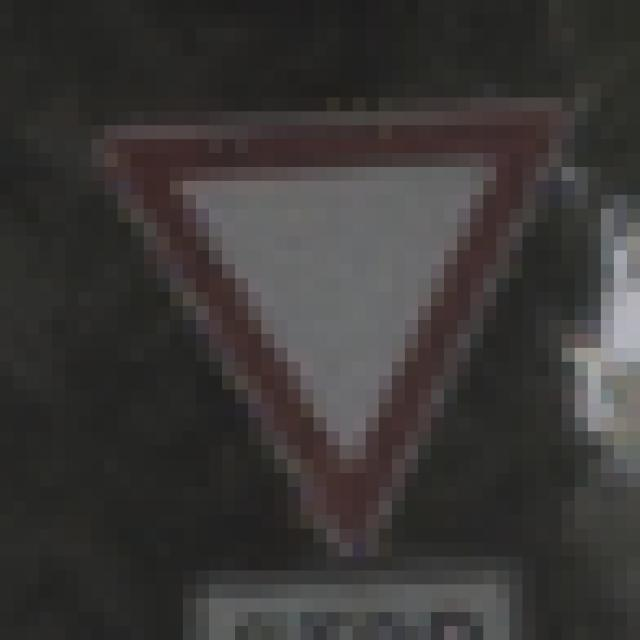Give Way: (66, 71, 576, 572)
